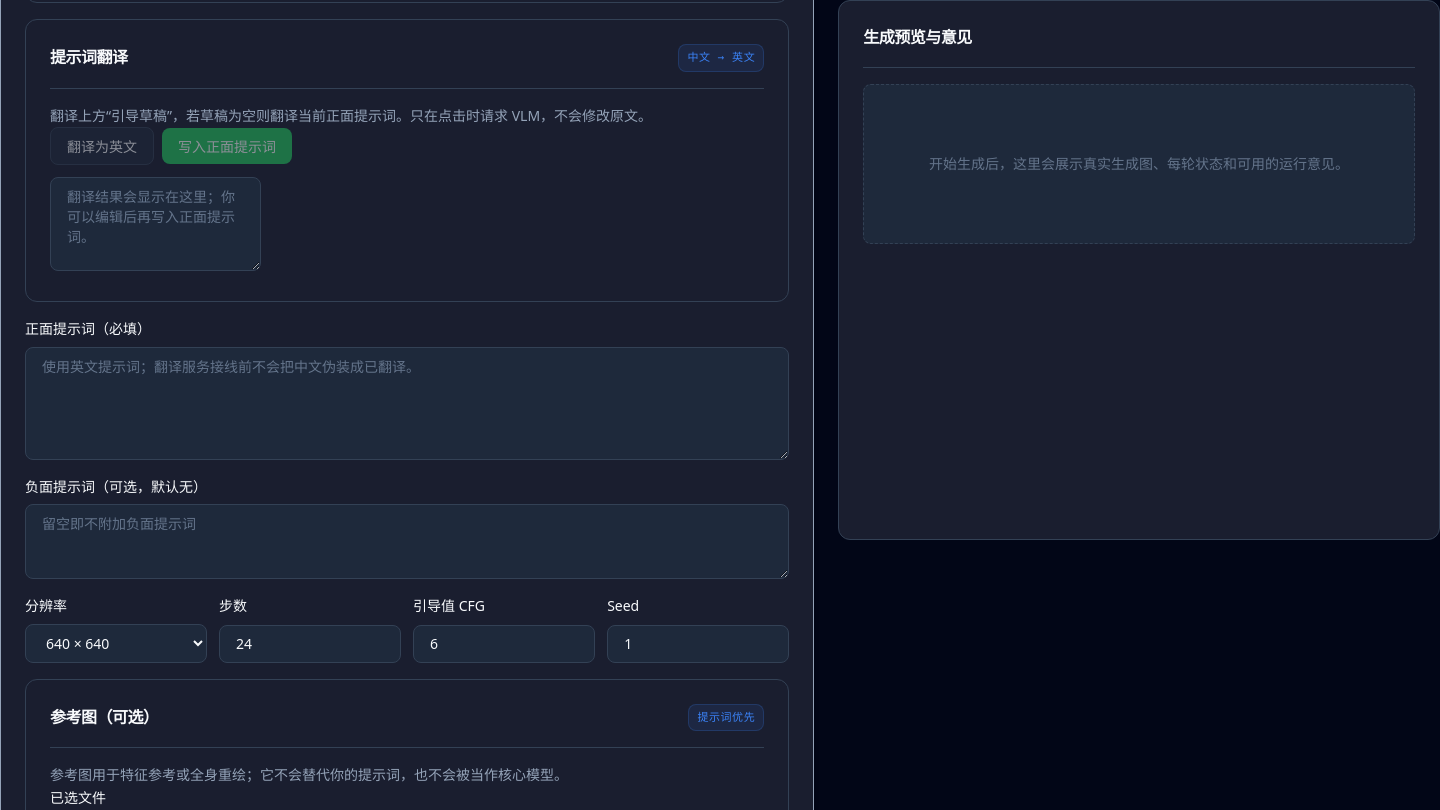
Test: ImageStudio › renders a returned VLM score, review summary and copy-only prompt patch in the preview column
(page scrolled)
Type "a valid English prompt" into the text box labelled "正面提示词（必填）". click: coordinates (407, 403)
box: [25,347,789,460]
(page scrolled)
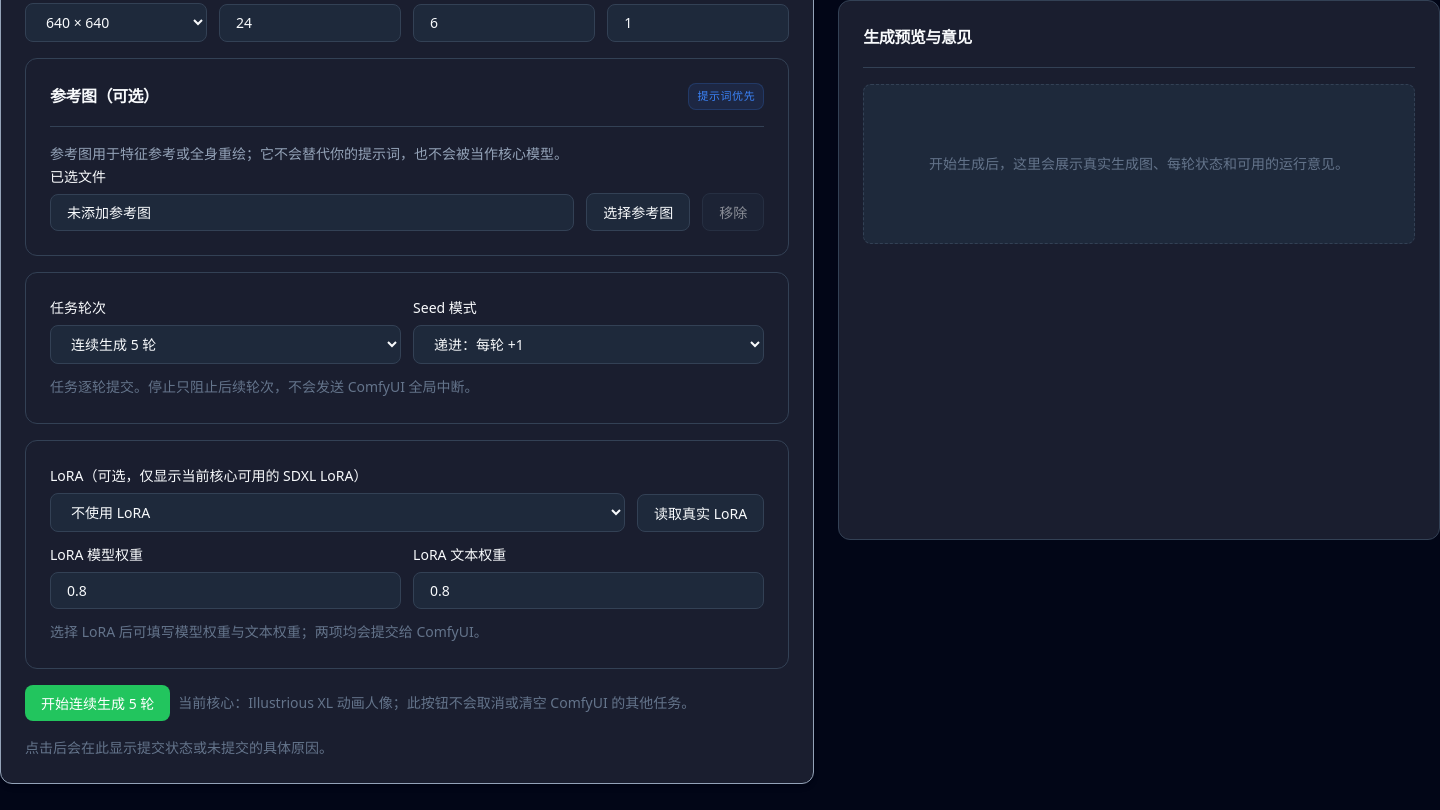
Click the button "开始连续生成 5 轮". click: coordinates (98, 703)
box: [25,685,170,721]
(page scrolled)
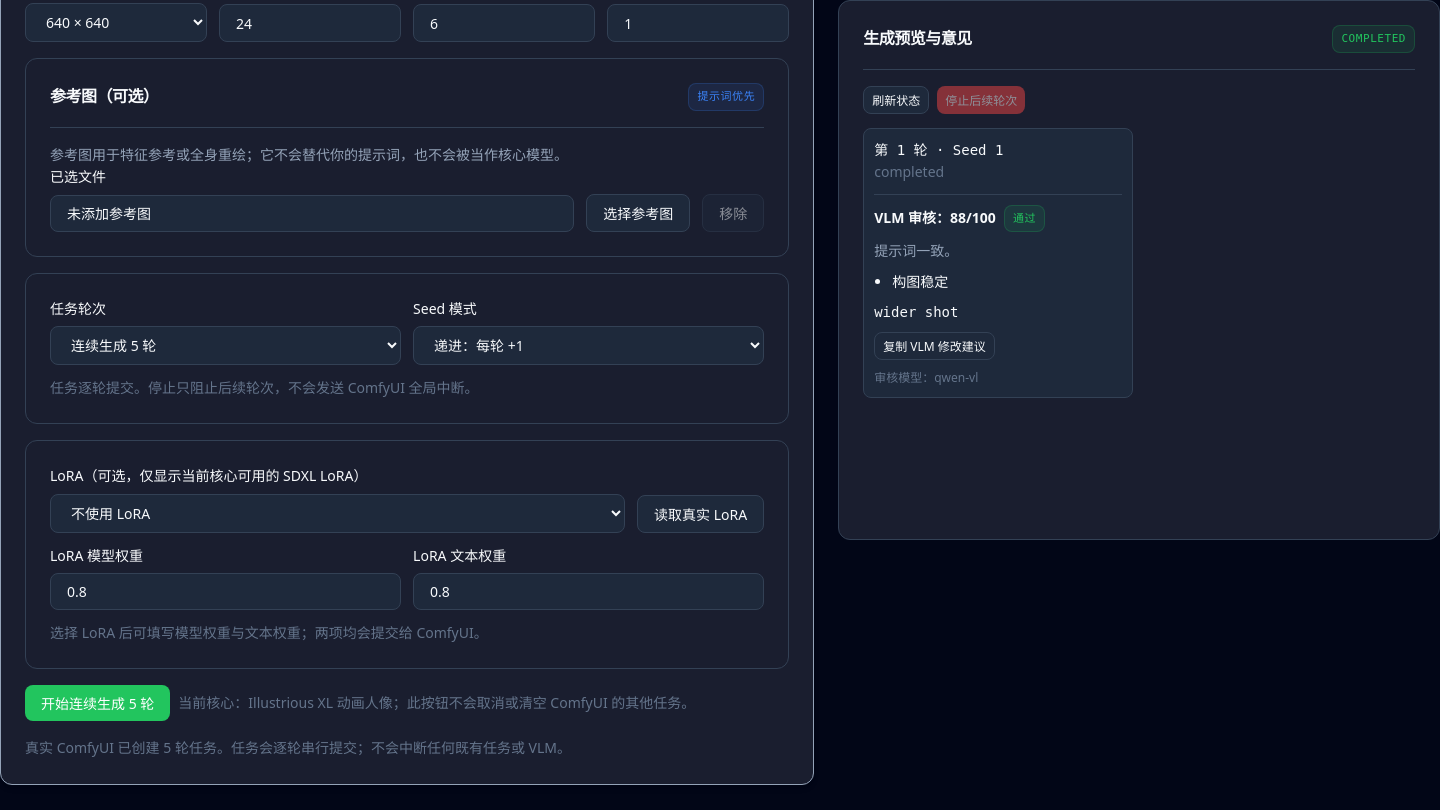
Check: the text "VLM 审核：88/100" is shown, box [874,207,996,229]
Check: the text "提示词一致。" is shown, box [874,241,958,260]
Check: the button "复制 VLM 修改建议" is shown, box [874,331,995,359]
